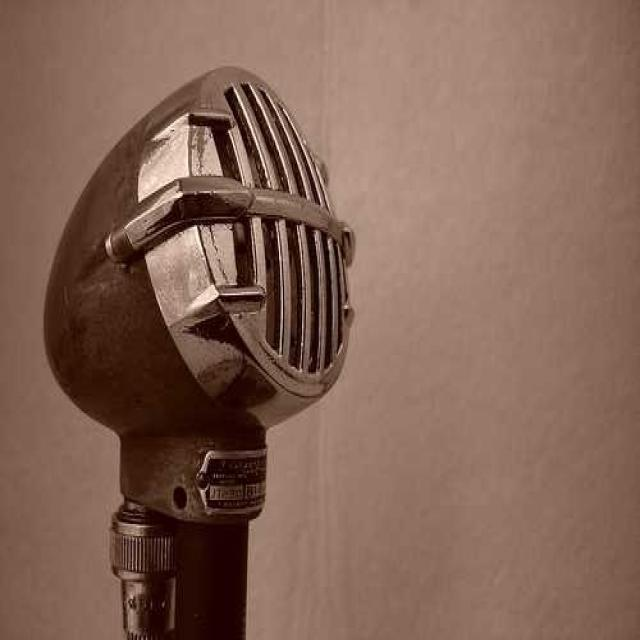microphone: (40, 67, 356, 634)
